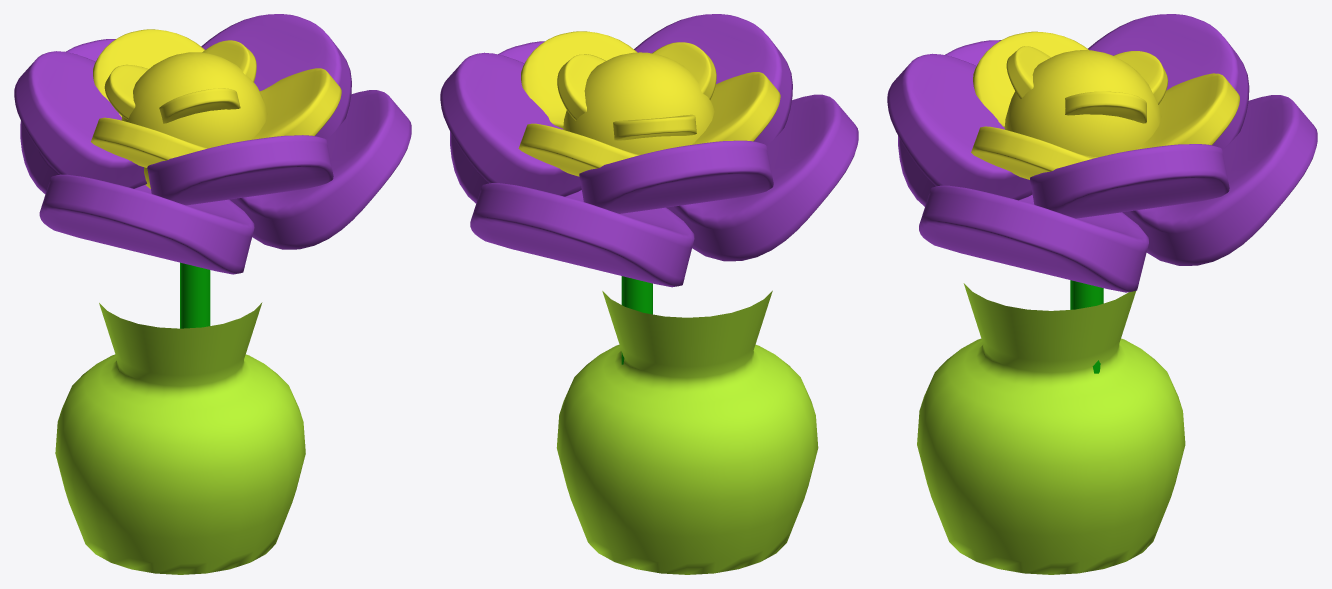
The model's file is bakuchiol6.glb.
3 renders of one model, left to right at view 1: azimuth 30°, elevation 25°; view 2: azimuth 150°, elevation 25°; view 3: azimuth 270°, elevation 25°, orthographic. The views are drawn at different scales.
Bounding box in the file's own units: 0.3924 × 0.4891 × 0.3859.
